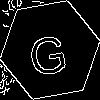G: (25, 25, 70, 78)
